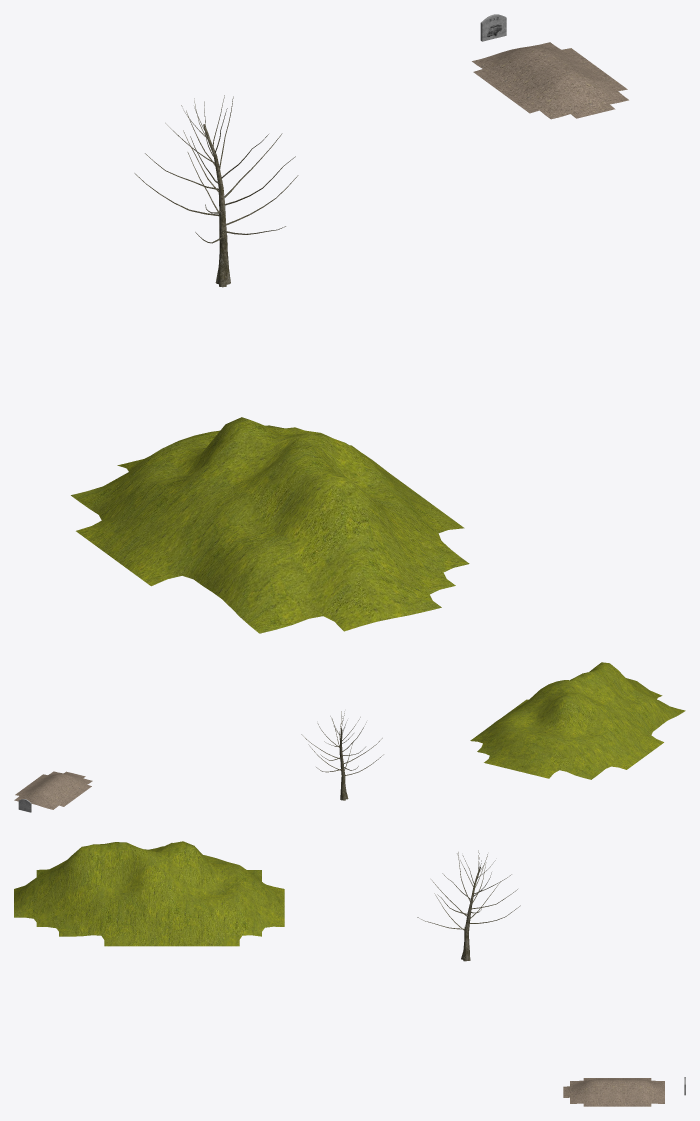
The model's file is graveyard.FBX.
The picture shows the model from 3 angles, top to bottom: view 1: azimuth 30°, elevation 25°; view 2: azimuth 150°, elevation 25°; view 3: azimuth 270°, elevation 25°; orthographic projection. The views are drawn at different scales.
Parts seen in each view (by area): view 1: hump, gravedirt, tree; view 2: hump, gravedirt, tree; view 3: hump, gravedirt, tree.
Boxes of the visible parts, x1=… form: hump: x1=71, y1=417, x2=469, y2=633; gravedirt: x1=472, y1=42, x2=628, y2=119; tree: x1=134, y1=95, x2=298, y2=287; hump: x1=470, y1=662, x2=685, y2=779; gravedirt: x1=14, y1=771, x2=92, y2=809; tree: x1=301, y1=711, x2=383, y2=800; hump: x1=14, y1=841, x2=284, y2=946; gravedirt: x1=563, y1=1078, x2=664, y2=1106; tree: x1=417, y1=850, x2=520, y2=961.
Size of what is drawn, in the model's own units: 175 by 199 by 36.26.
